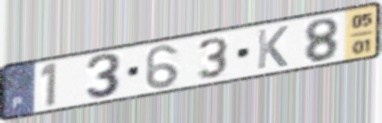1: (39, 60, 58, 109)
3: (83, 52, 125, 101), (196, 35, 230, 81)
6: (144, 42, 182, 91)
8: (301, 15, 341, 64)
K: (255, 24, 291, 71)
